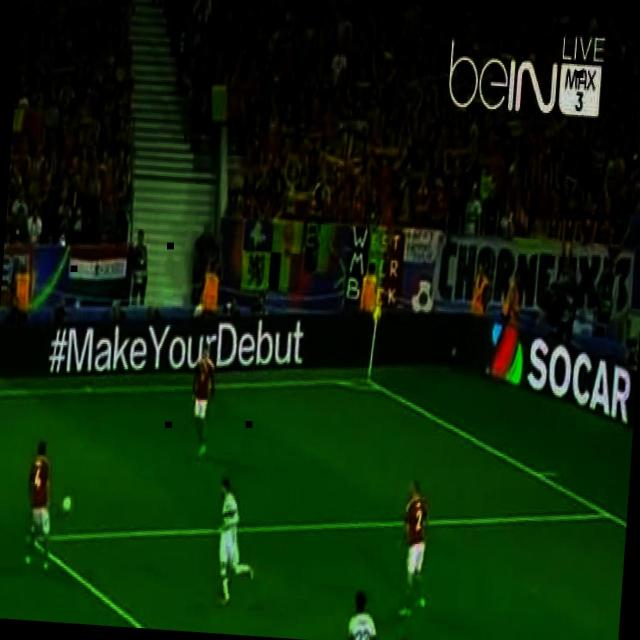ball: (62, 495, 72, 515)
player-white: (211, 476, 261, 608), (397, 475, 435, 619), (23, 439, 59, 571), (187, 342, 218, 460), (340, 587, 379, 640), (388, 633, 423, 640)
